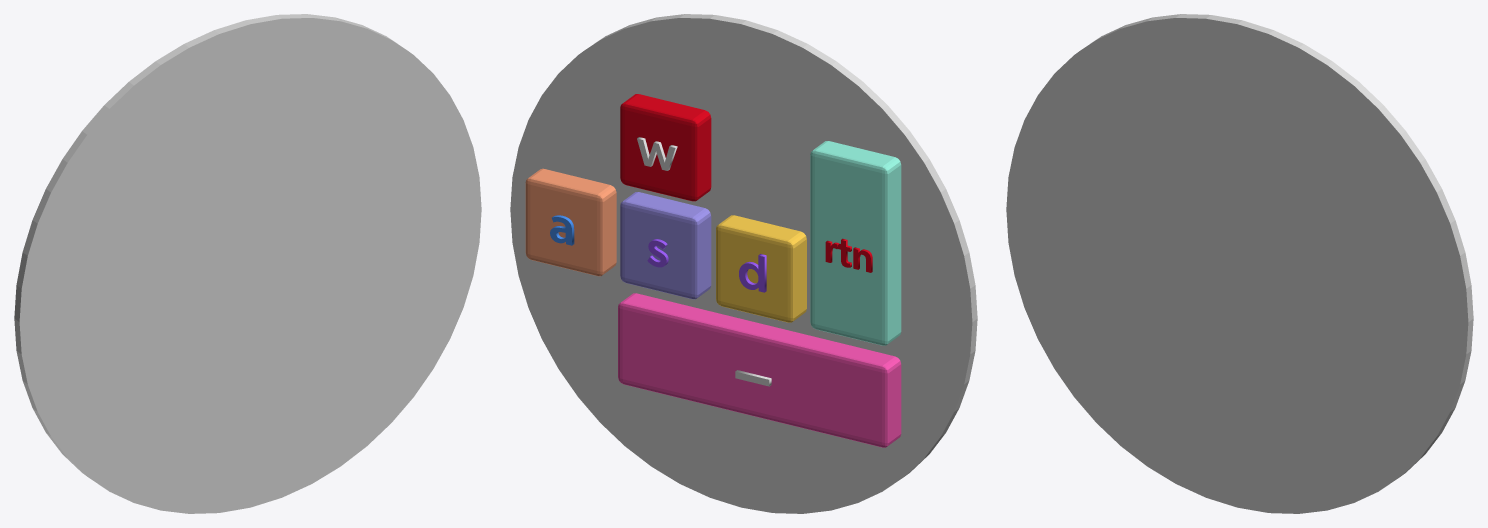
File: Remix_UI_CANDY_.fbx
3 renders of one model, left to right at view 1: azimuth 30°, elevation 25°; view 2: azimuth 150°, elevation 25°; view 3: azimuth 330°, elevation 25°, orthographic.
Parts seen in each view (by area): view 1: BUTTON8.001; view 2: BUTTON8.001, Cube.024, Cube.025, Cube.021, Cube.022, Cube.020, Cube.023, dress me.093, dress me.088, dress me.091, dress me.090; view 3: BUTTON8.001.
Part boxes in pixels (x1=…): BUTTON8.001: x1=14, y1=14, x2=481, y2=513; BUTTON8.001: x1=510, y1=14, x2=977, y2=513; Cube.024: x1=618, y1=293, x2=901, y2=447; Cube.025: x1=810, y1=141, x2=901, y2=345; Cube.021: x1=620, y1=192, x2=711, y2=299; Cube.022: x1=525, y1=168, x2=616, y2=276; Cube.020: x1=620, y1=94, x2=711, y2=201; Cube.023: x1=716, y1=215, x2=806, y2=322; dress me.093: x1=825, y1=238, x2=872, y2=272; dress me.088: x1=637, y1=137, x2=677, y2=170; dress me.091: x1=739, y1=254, x2=766, y2=292; dress me.090: x1=550, y1=215, x2=574, y2=245; BUTTON8.001: x1=1006, y1=14, x2=1473, y2=513.
Bounding box in the file's own units: 175 × 175 × 14.16.
